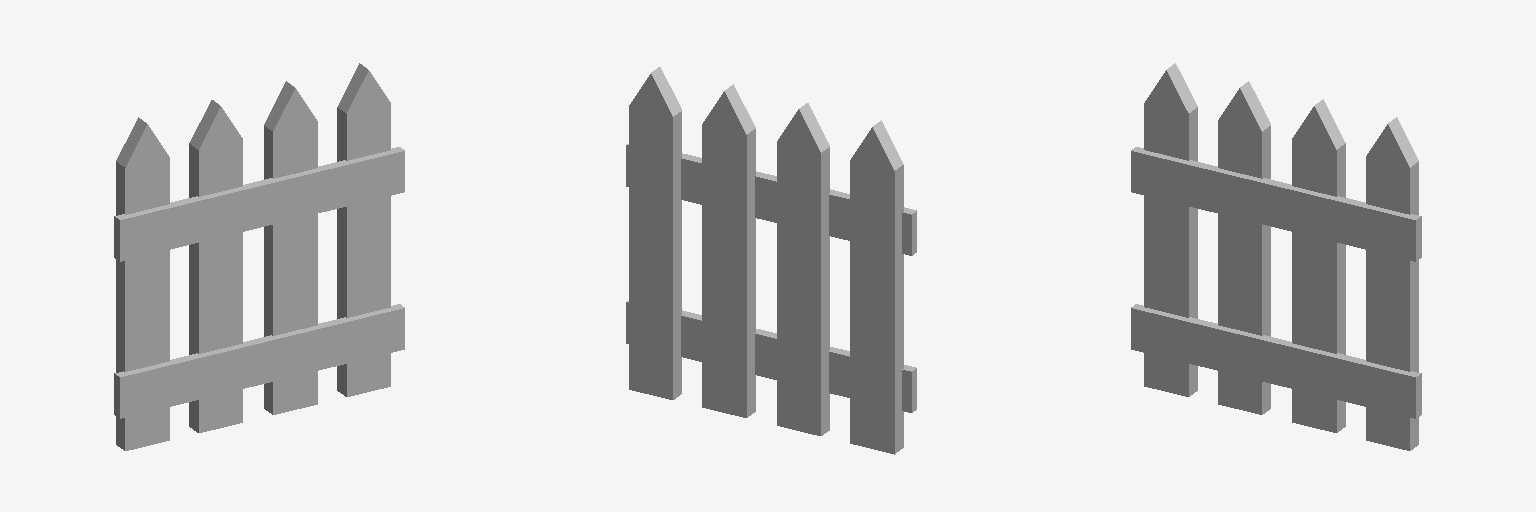
File: Fence_Timber_Small_01 1_3_0.obj
The picture shows the model from 3 angles: view 1: azimuth 30°, elevation 25°; view 2: azimuth 150°, elevation 25°; view 3: azimuth 330°, elevation 25°; orthographic projection.
Visible parts, largest first — view 1: Fence_Timber_Small_01 1; view 2: Fence_Timber_Small_01 1; view 3: Fence_Timber_Small_01 1.
Boxes of the visible parts, x1=… form: Fence_Timber_Small_01 1: x1=114, y1=63, x2=404, y2=450; Fence_Timber_Small_01 1: x1=626, y1=67, x2=916, y2=454; Fence_Timber_Small_01 1: x1=1131, y1=63, x2=1421, y2=450.
Bounding box in the file's own units: 5.48 × 5.91 × 0.4442.